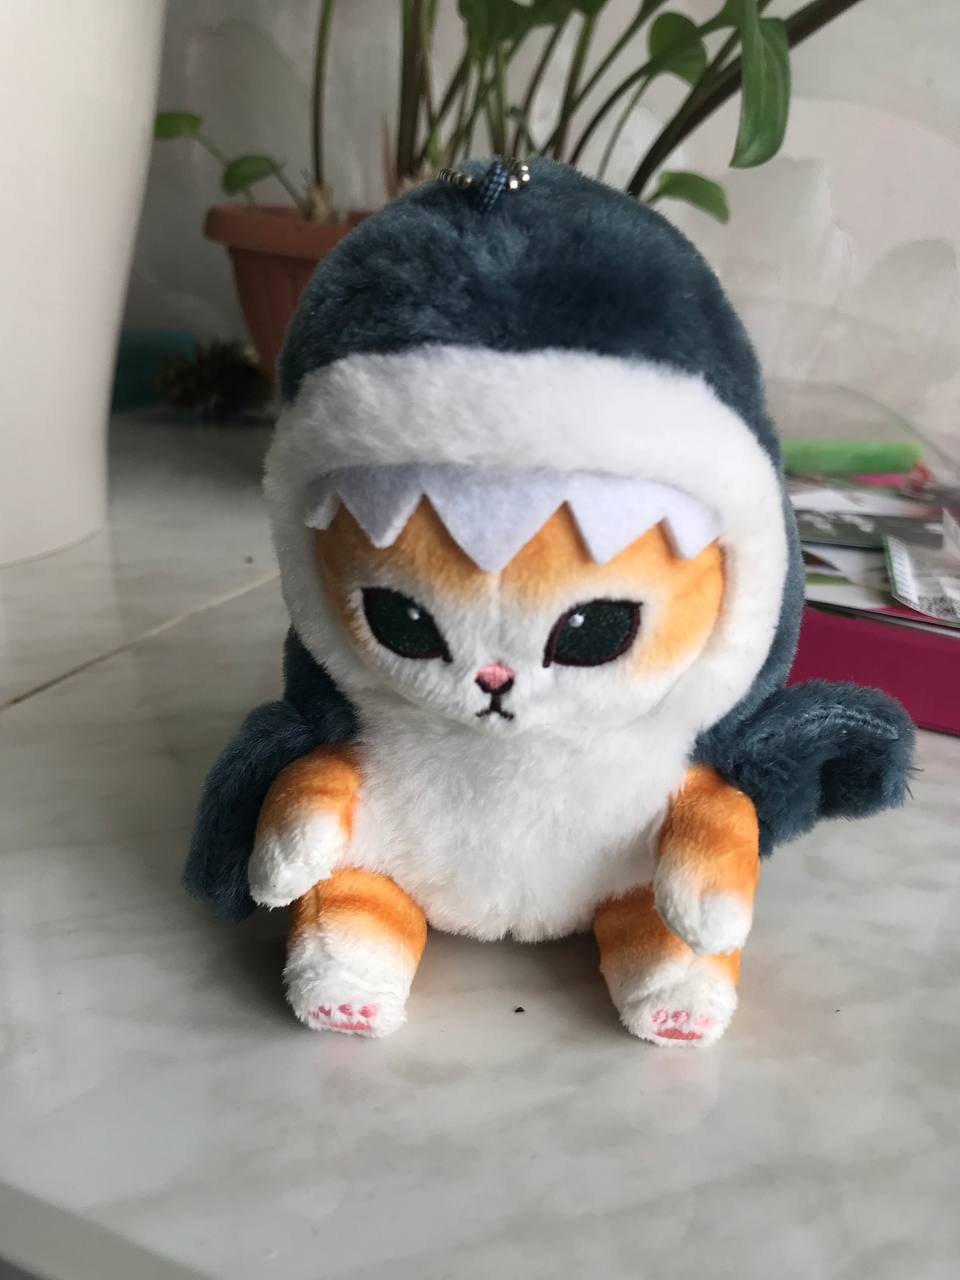cat_shark: (186, 156, 921, 1048)
